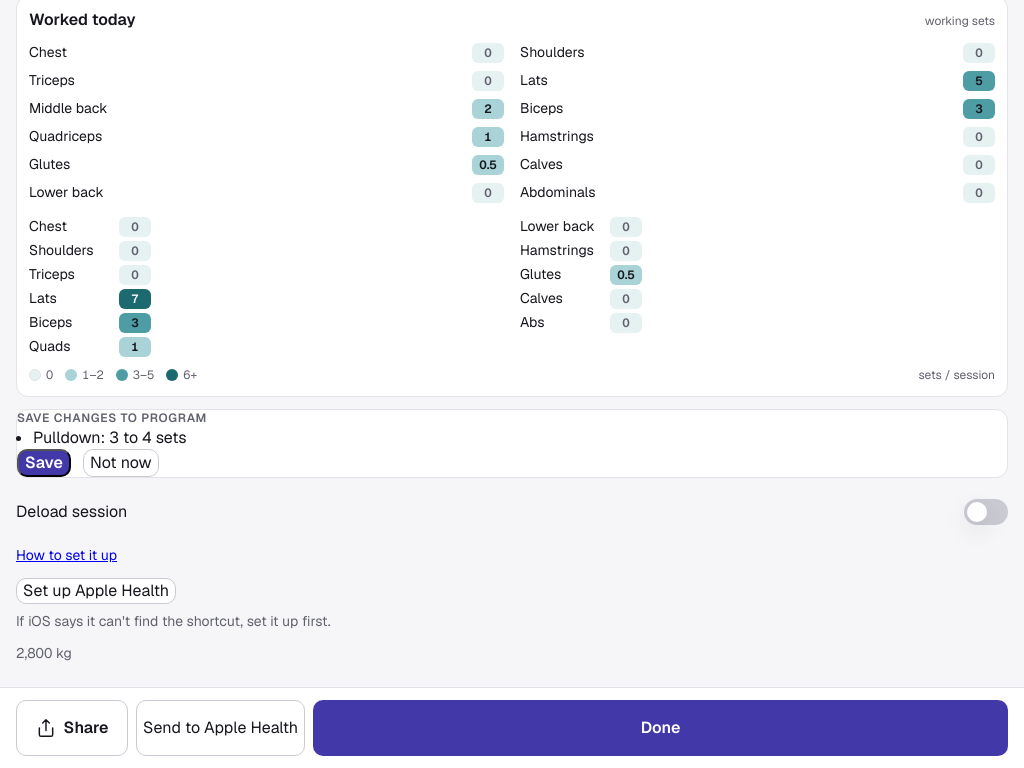
it: O26 Not now hides the offer and saves nothing
(page scrolled)
Click the button "Not now". click: (121, 463)
box: [83, 449, 159, 477]
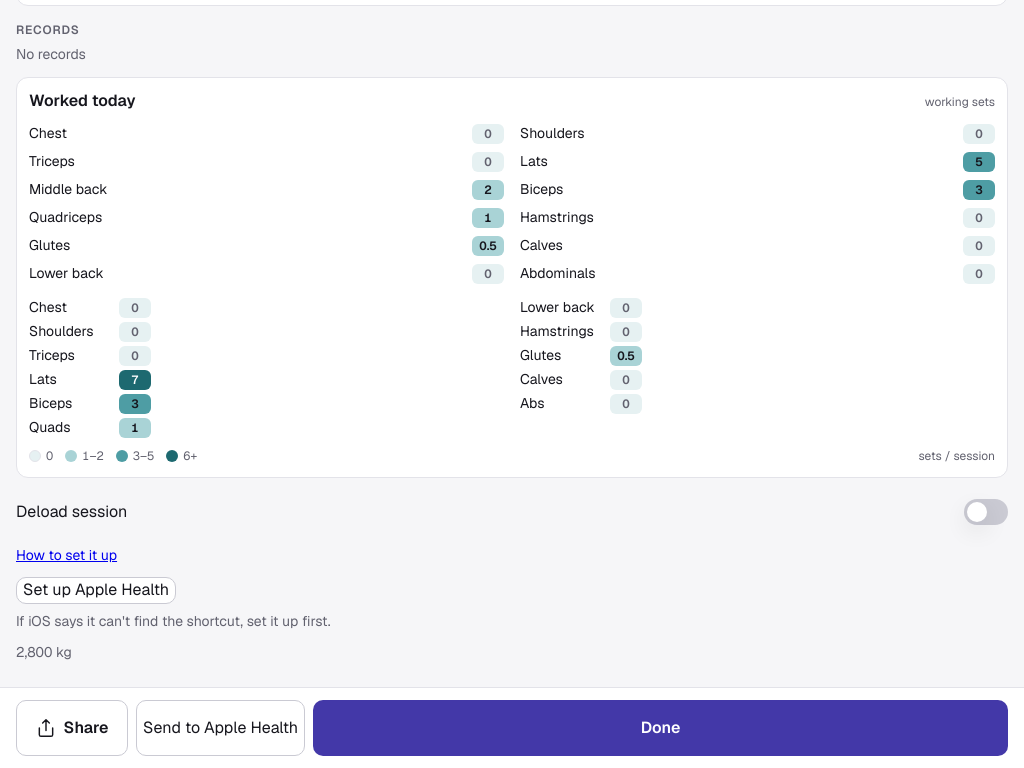
Expected: the heading "Save changes to program" is gone
